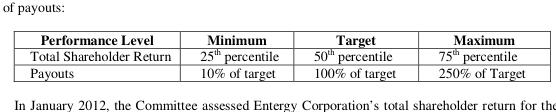table: (29, 29, 524, 80)
table column: (29, 29, 184, 80), (295, 29, 416, 80), (184, 29, 295, 80), (416, 29, 524, 80)
table column header: (29, 29, 524, 46)
table row: (29, 62, 524, 80), (29, 29, 524, 46), (29, 46, 524, 62)
